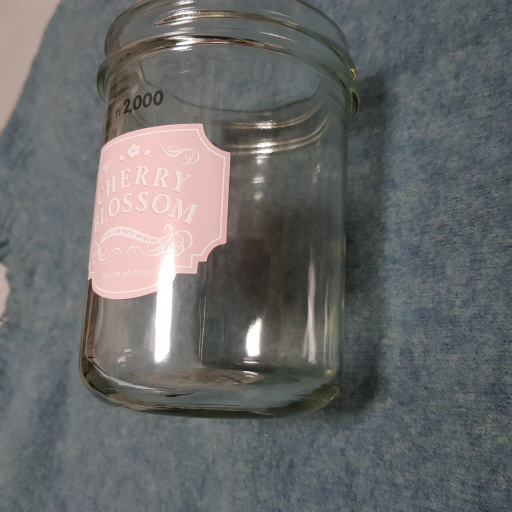Glass_5: (82, 3, 357, 425)
